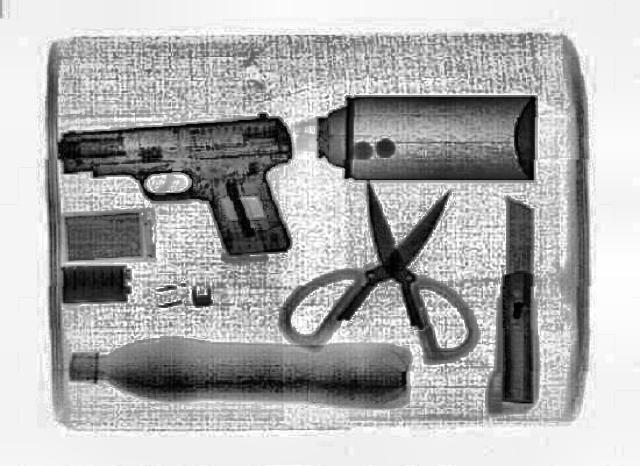Gun: (52, 109, 294, 257)
Knife: (275, 178, 481, 364)
